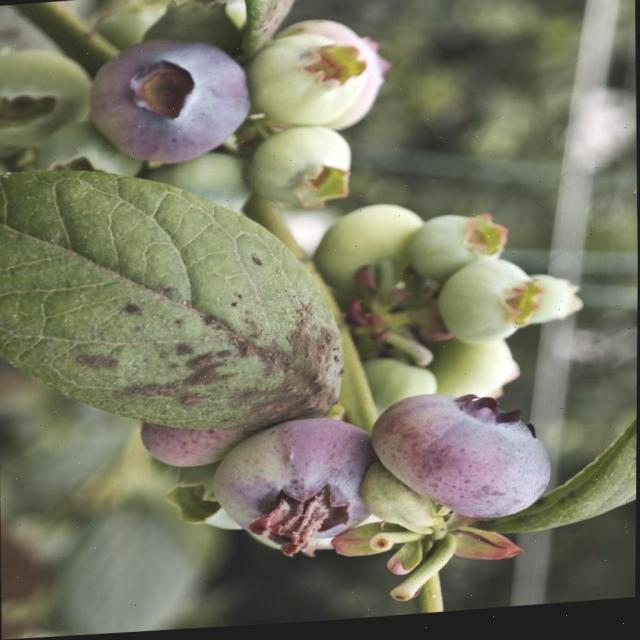RipeBlueBerry: (90, 36, 262, 168)
Semi-RipeBlueBerry: (369, 393, 549, 526), (209, 418, 373, 553)
UnripeBlueBerry: (253, 33, 365, 130), (444, 262, 541, 352)
